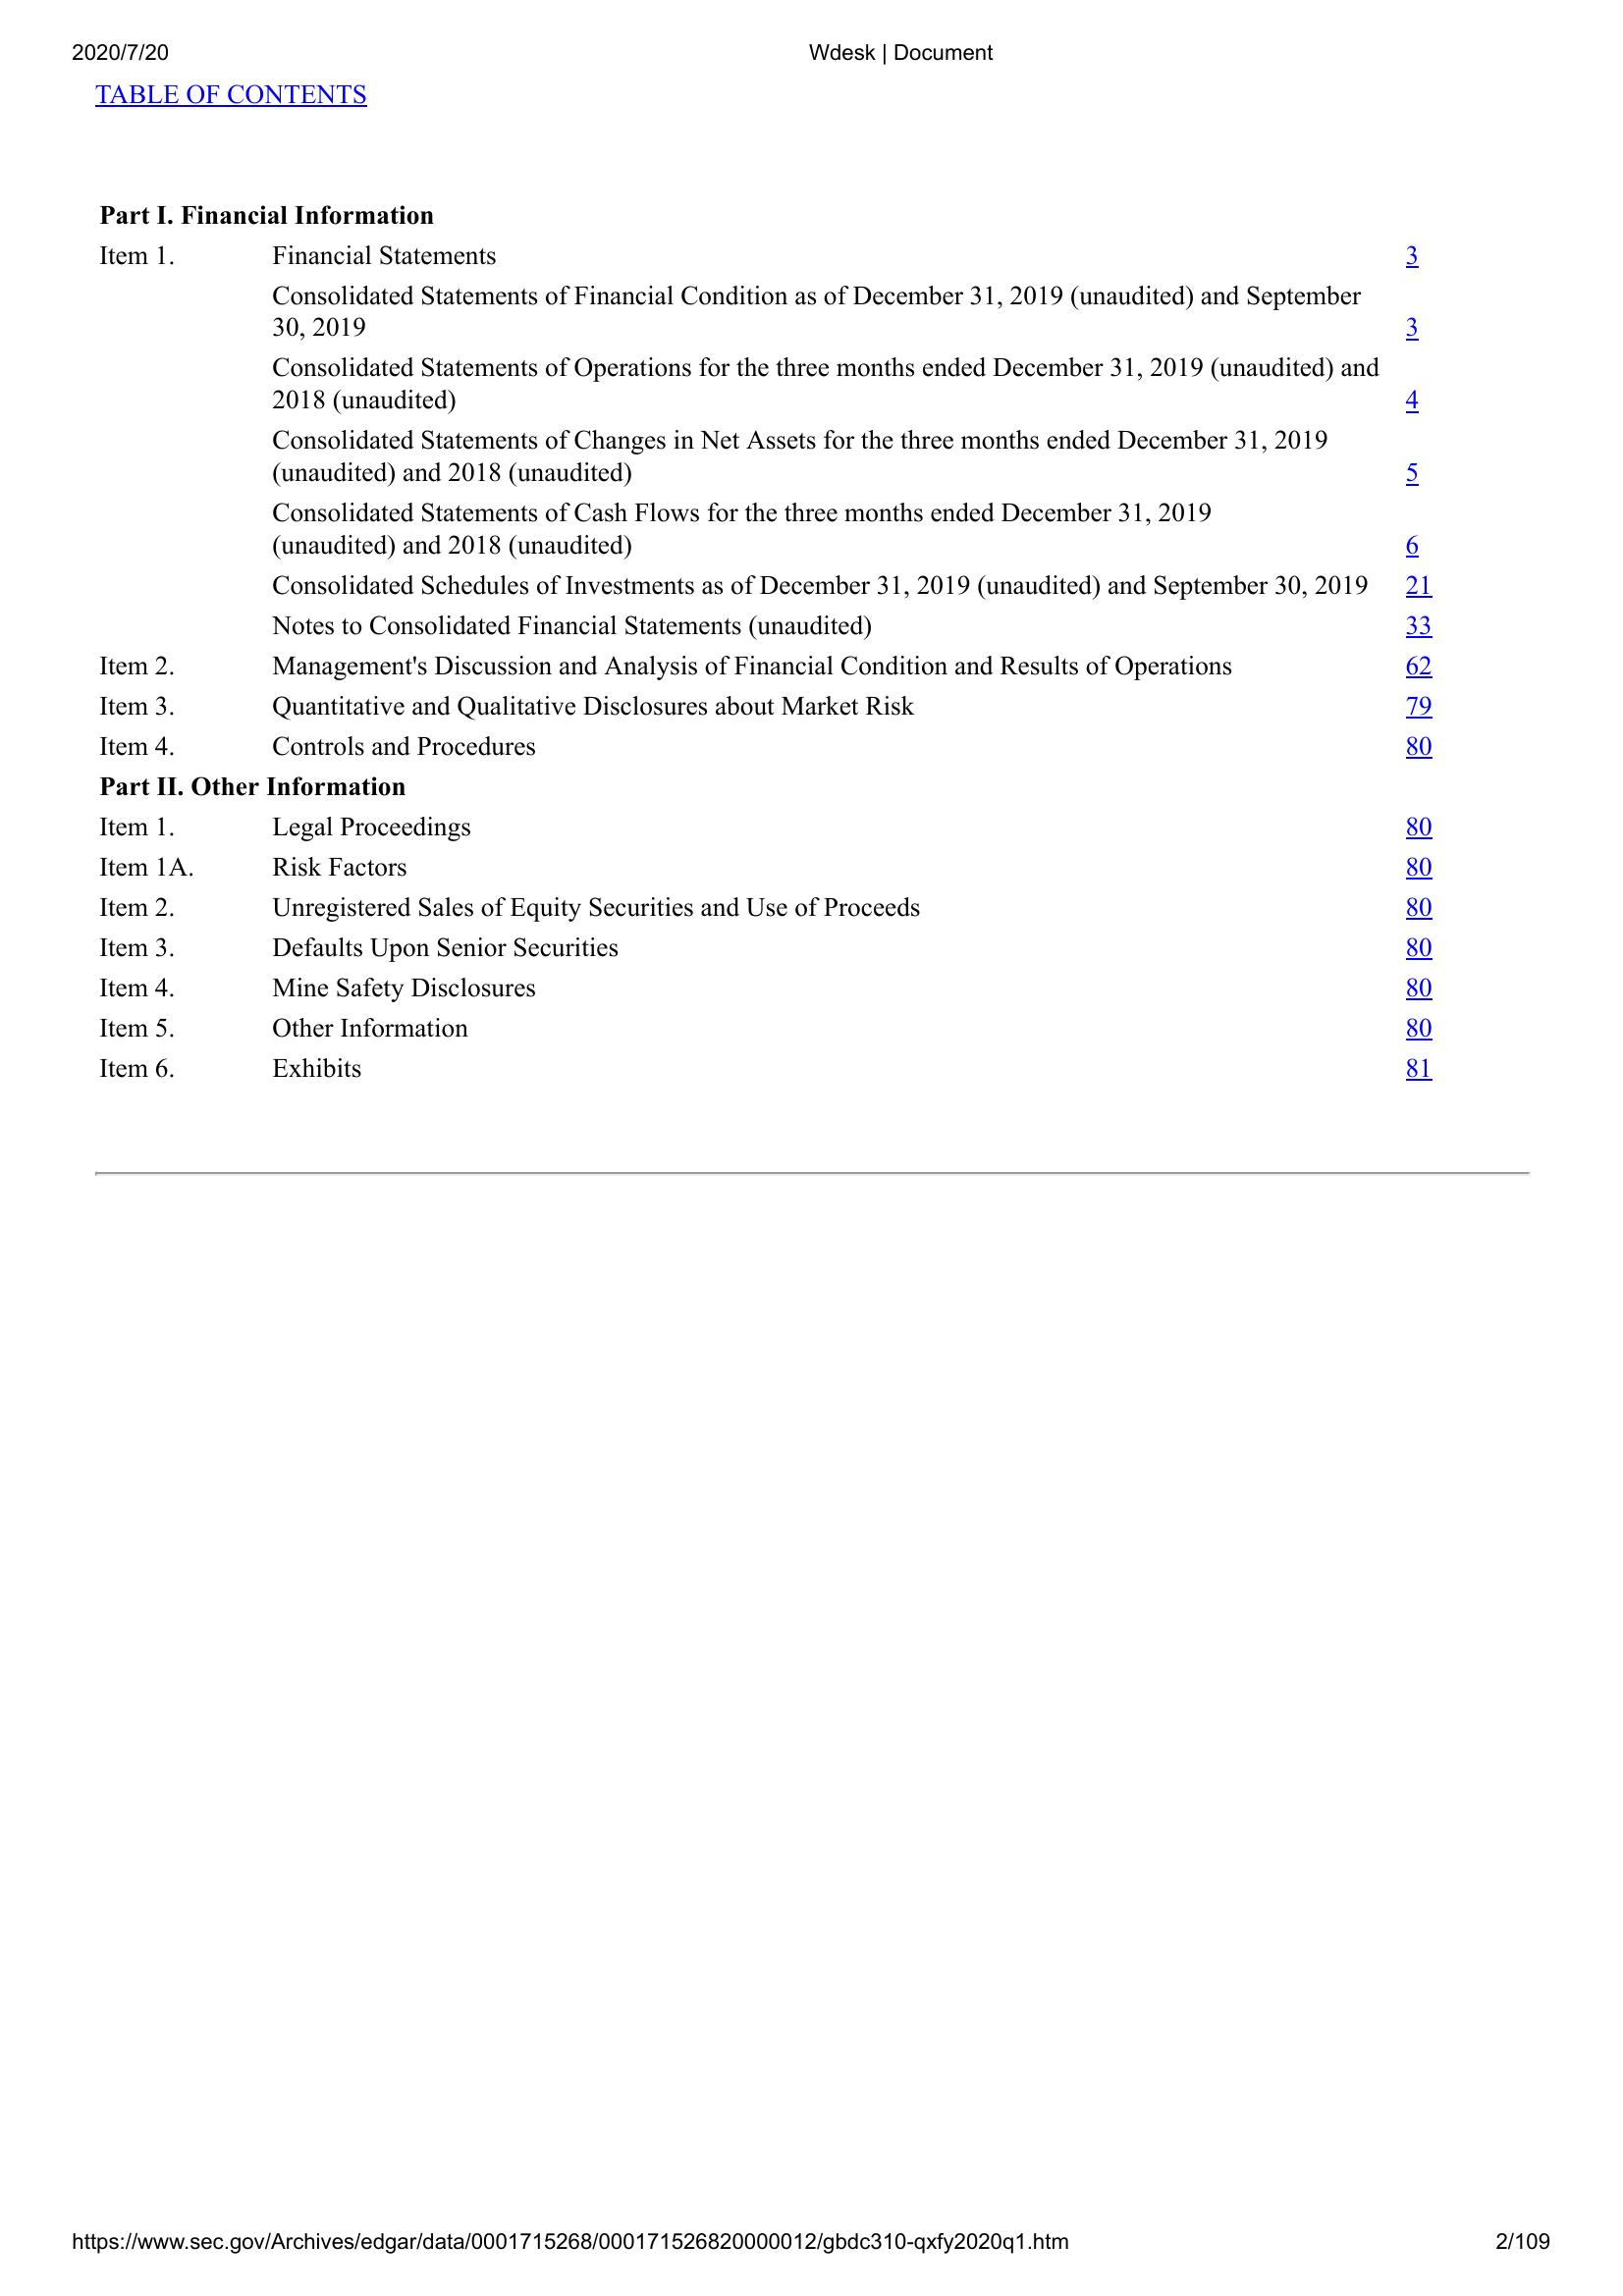table: (77, 184, 1444, 1095)
